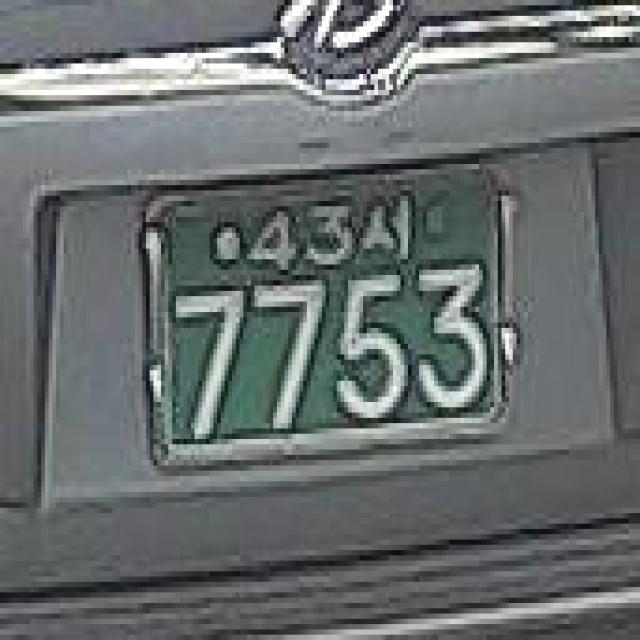illegal_plate: (125, 150, 527, 481)
